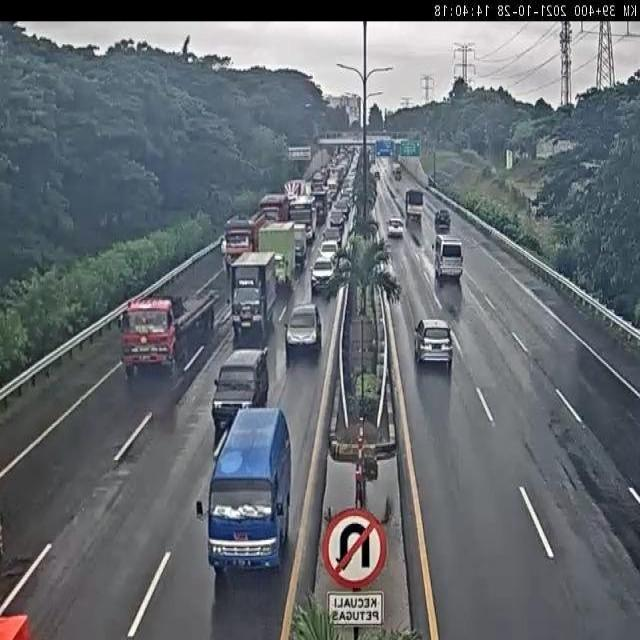Bus: (288, 193, 317, 244)
Car: (210, 348, 269, 424), (285, 303, 322, 362), (414, 317, 454, 368), (310, 258, 335, 288), (406, 188, 426, 216), (387, 218, 404, 238), (435, 207, 451, 227)
Truck: (119, 294, 218, 378), (228, 251, 280, 345), (259, 220, 300, 296)
Van: (195, 406, 292, 574), (433, 234, 462, 280)
